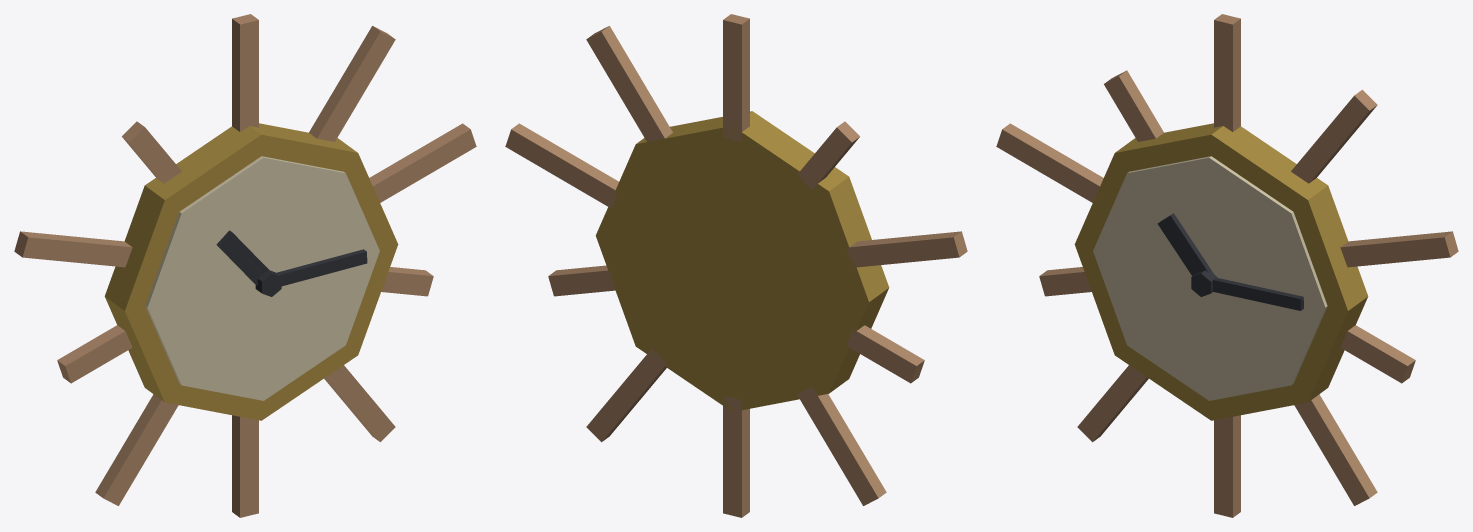
The model's file is wall-clock-03.glb.
The picture shows the model from 3 angles, left to right: view 1: azimuth 30°, elevation 25°; view 2: azimuth 150°, elevation 25°; view 3: azimuth 330°, elevation 25°; orthographic projection.
Visible parts, largest first — view 1: wall_clock_03; view 2: wall_clock_03; view 3: wall_clock_03.
Part boxes in pixels (x1,y1,x2,y2): wall_clock_03: (14, 14, 476, 517); wall_clock_03: (505, 14, 967, 517); wall_clock_03: (996, 14, 1458, 517).
Size of the model in its own units: 0.481 by 0.4993 by 0.056.
